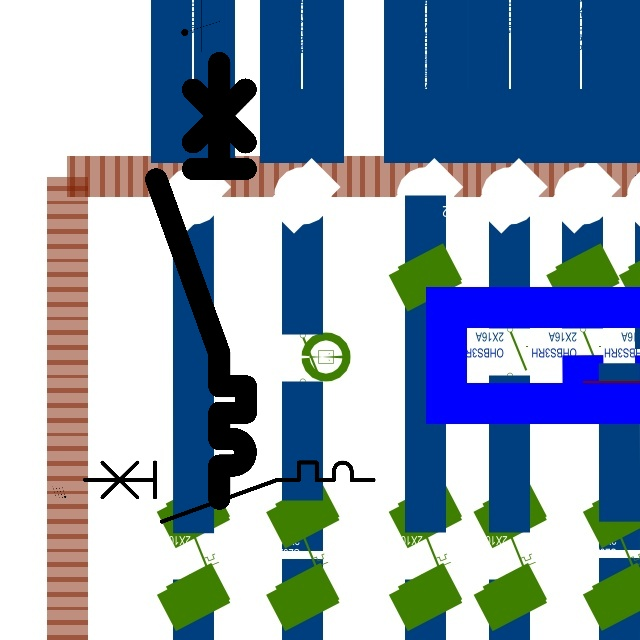interruptor_termomagnetico: (145, 51, 257, 509), (77, 455, 380, 529)
